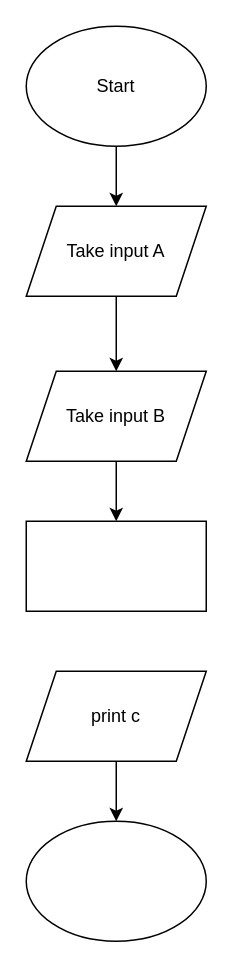
Some shapes in this 233 by 968 pixel diagram are drawn without their labels. The centre of each missing label's shape, as x and y in pixels:
c = a + b: point (115, 565)
End: point (115, 880)
